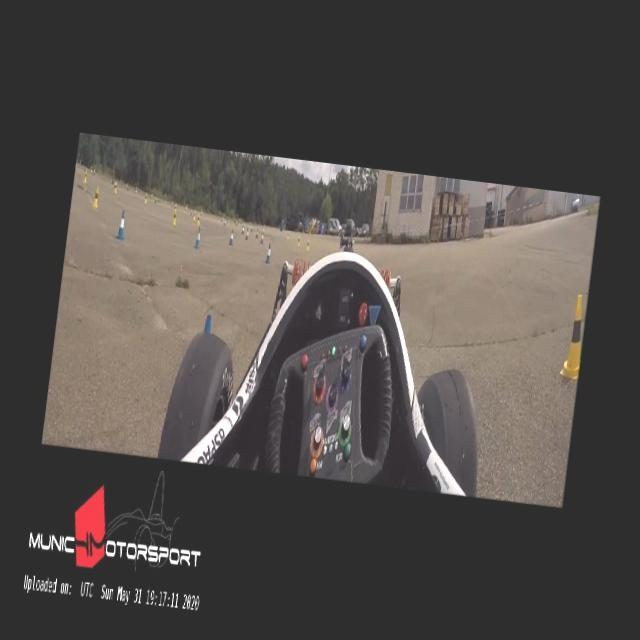blue_cone: (115, 210, 126, 240), (192, 226, 202, 249), (264, 242, 272, 264)
yellow_cone: (558, 292, 588, 379), (92, 185, 100, 208)
